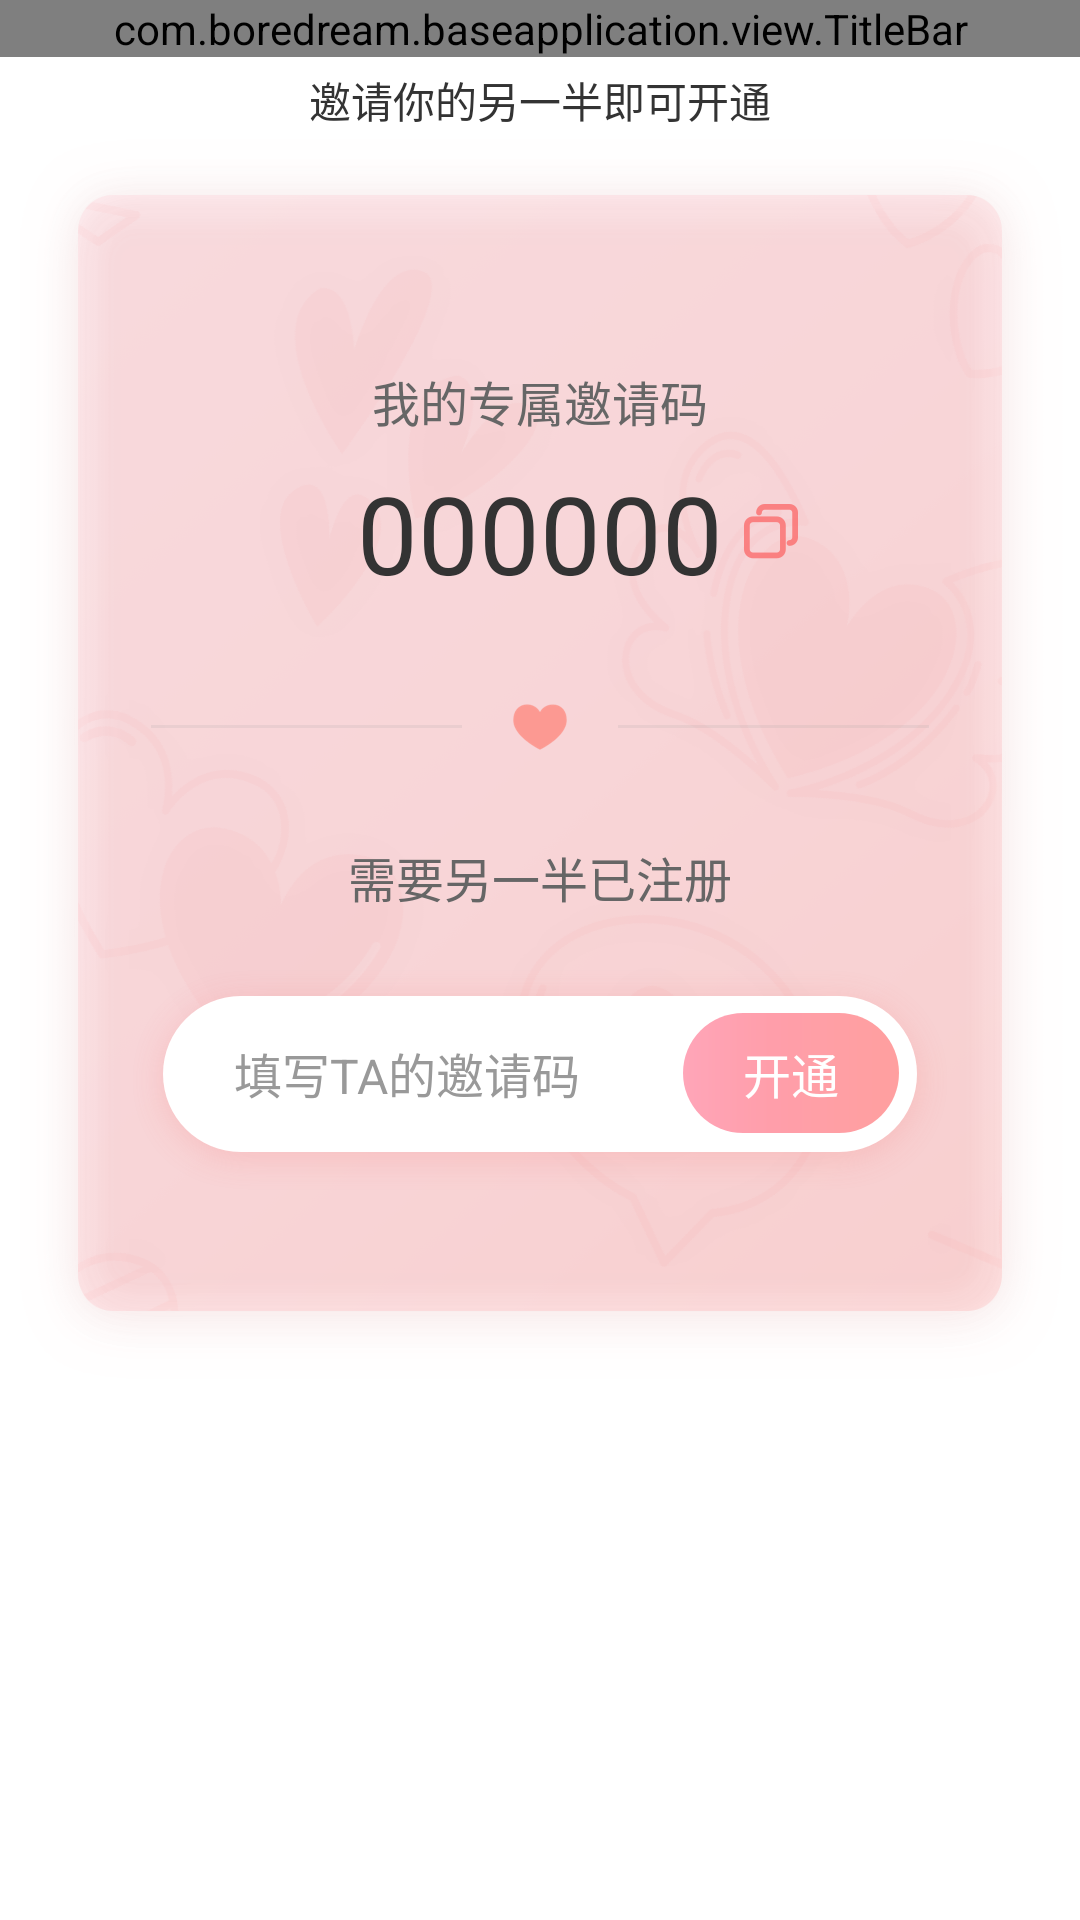

Where icons sit on this 1080px×1920px app screen, as Rect(x1, y1, x2, y2):
love: Rect(513, 704, 567, 750)
